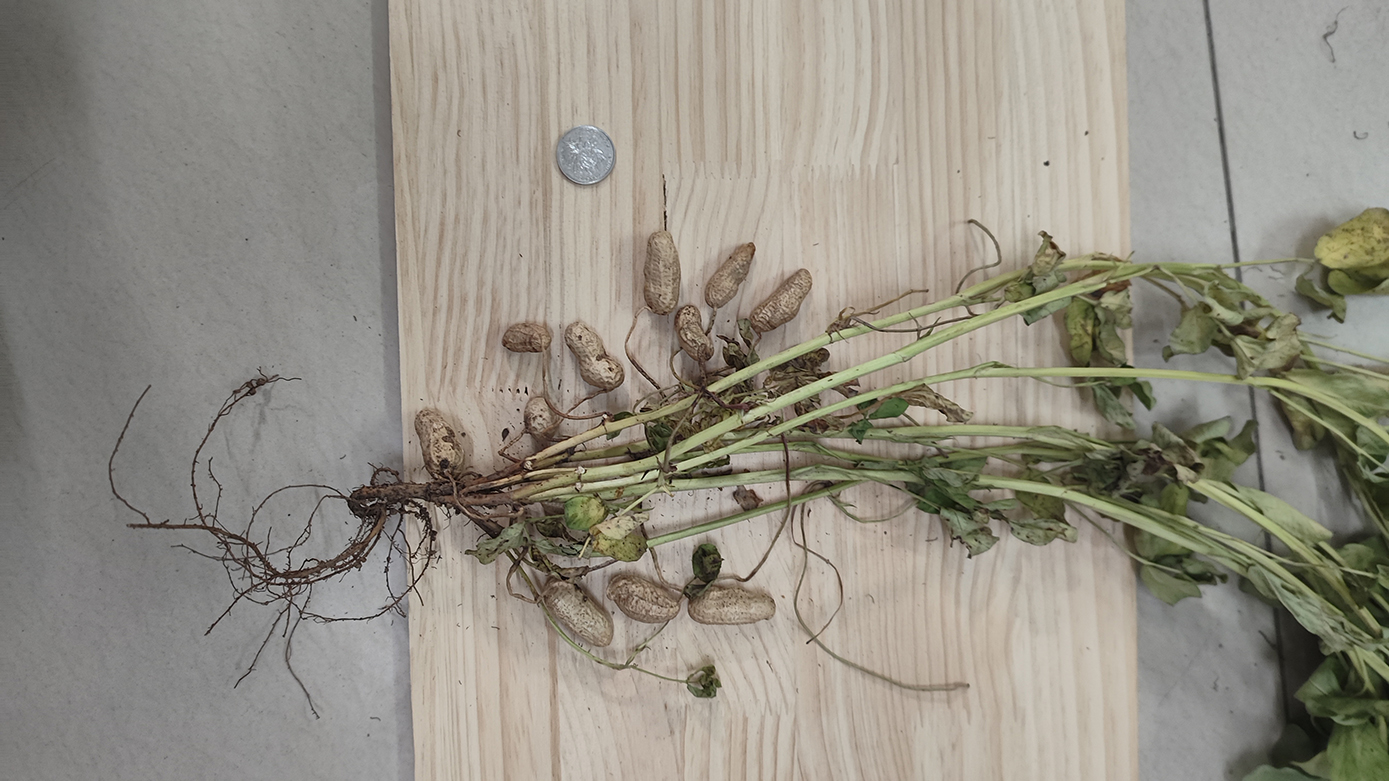h: (543, 579, 614, 646), (748, 267, 813, 334), (562, 319, 624, 387), (607, 574, 680, 624), (703, 241, 755, 306), (688, 587, 776, 625), (642, 230, 680, 317), (674, 304, 714, 362), (524, 393, 559, 440), (502, 324, 553, 353)
l: (414, 407, 464, 480)
